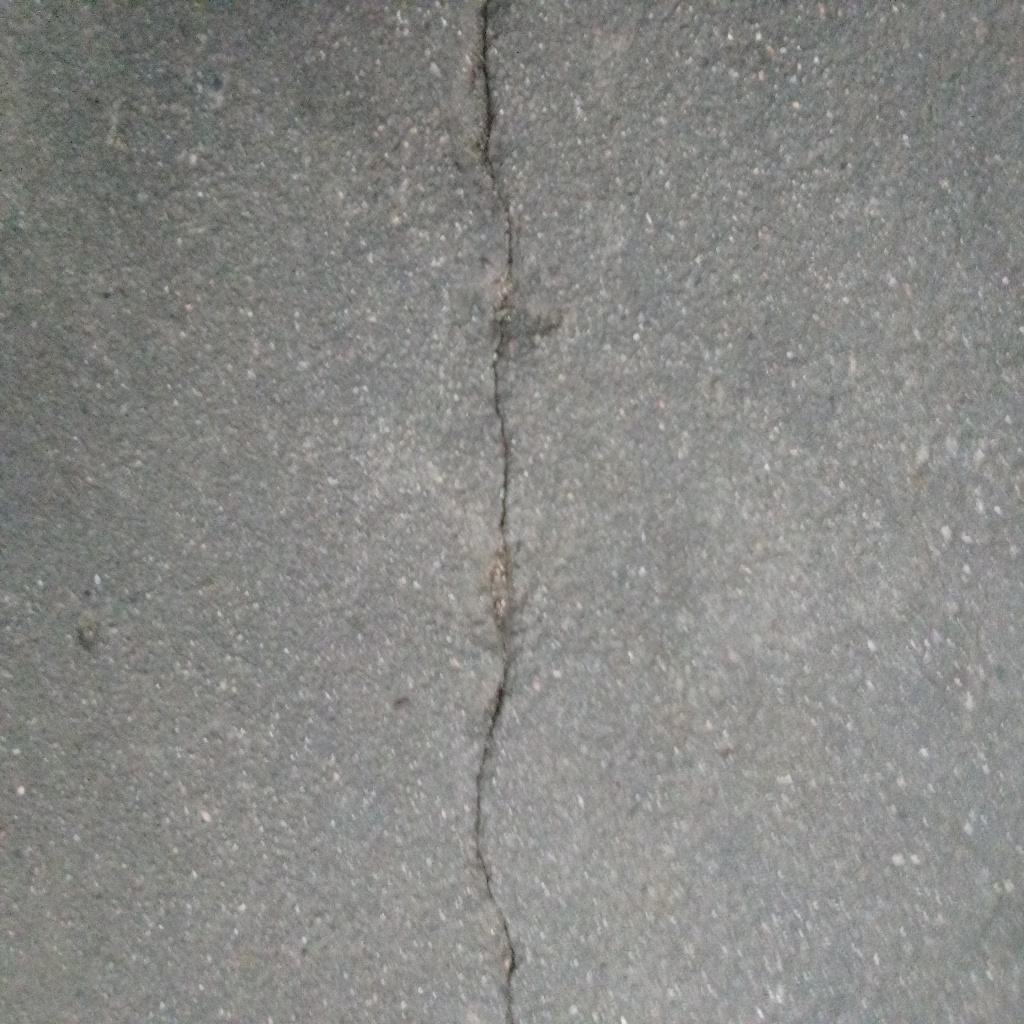Crack: (473, 1, 561, 1024)
